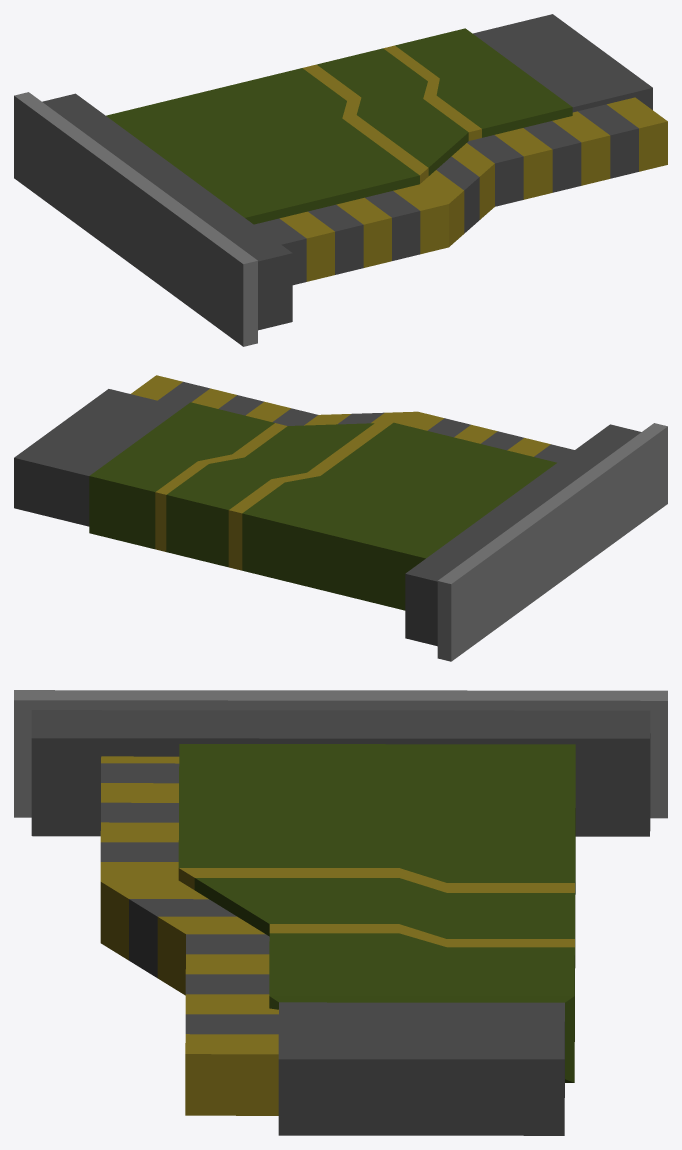
The model's file is Chip.fbx.
3 renders of one model, top to bottom at view 1: azimuth 30°, elevation 25°; view 2: azimuth 150°, elevation 25°; view 3: azimuth 270°, elevation 25°, orthographic. The views are drawn at different scales.
Parts seen in each view (by area): view 1: Collectible_Board; view 2: Collectible_Board; view 3: Collectible_Board.
Boxes of the visible parts, x1,y1,x2,y2 form: Collectible_Board: [14, 14, 667, 346]; Collectible_Board: [14, 375, 667, 661]; Collectible_Board: [14, 690, 667, 1135].
Size of the model in its own units: 0.2981 by 0.0468 by 0.2362.
